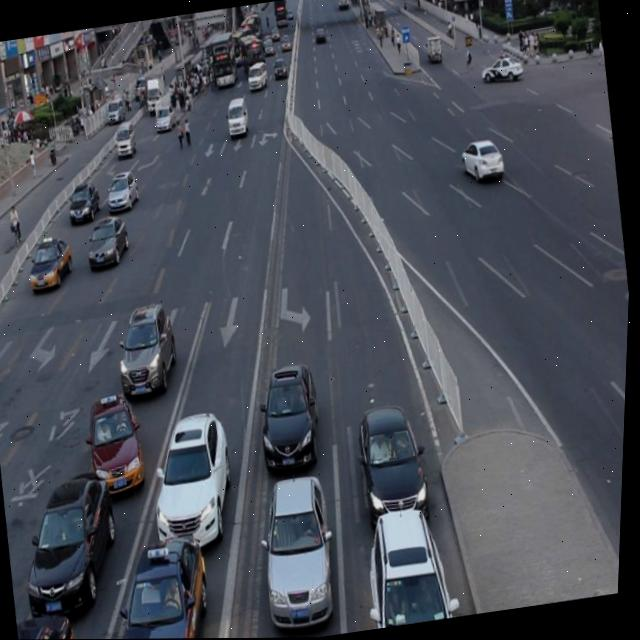car: (16, 466, 133, 621), (144, 403, 247, 553), (256, 469, 348, 633), (361, 498, 464, 630), (105, 531, 223, 639), (354, 395, 438, 527), (254, 357, 332, 474), (112, 296, 187, 397), (85, 389, 155, 496), (26, 235, 78, 292), (84, 213, 135, 271), (459, 136, 507, 184), (19, 606, 85, 640), (66, 180, 105, 225), (105, 169, 143, 215)
